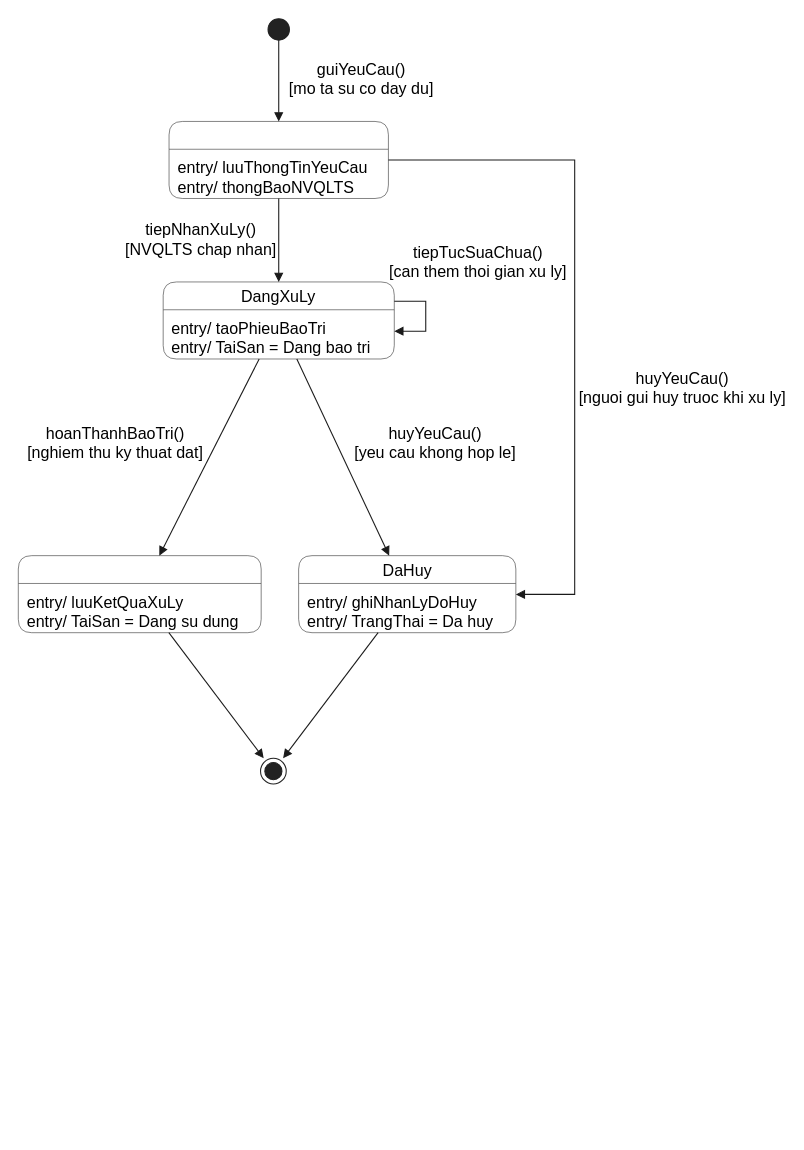
Some shapes in this 804 by 1150 pixel diagram are drawn without their labels. Here are the shapes that lost their labels. From the top down, the box of each, then its label:
(168, 121, 388, 198): ChoTiepNhan
(18, 555, 261, 632): HoanThanh
